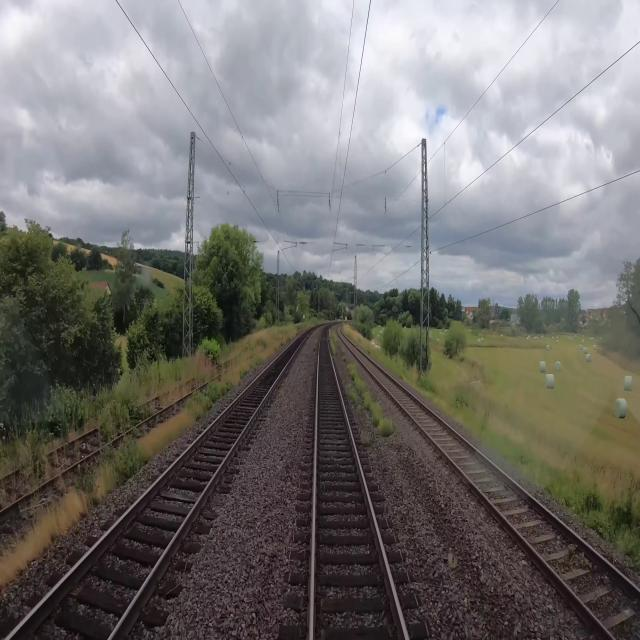Plant: (344, 361, 394, 441), (328, 328, 341, 359), (359, 431, 376, 449), (340, 349, 349, 366)
